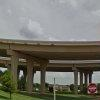Bridge: (5, 31, 95, 79)
